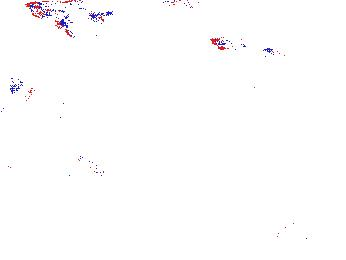X-ray fish: (38, 100, 121, 144), (51, 154, 106, 191)
red belly glassfish: (161, 1, 212, 11)
redtail glassfish: (26, 1, 114, 38), (211, 36, 279, 65)
